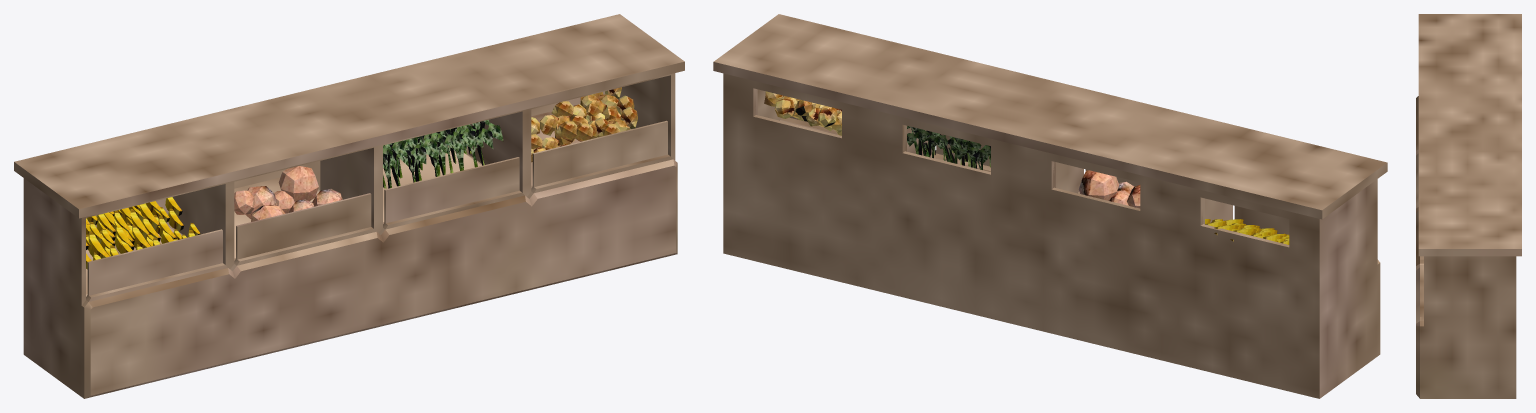
File: Mueble2Ver.fbx
3 renders of one model, left to right at view 1: azimuth 30°, elevation 25°; view 2: azimuth 150°, elevation 25°; view 3: azimuth 270°, elevation 25°, orthographic. The views are drawn at different scales.
Parts seen in each view (by area): view 1: Mesh (10), Cube.065, Cube.022, Cube.021, Cube.001, Cube.006; view 2: Mesh (10), Cube.019, Cube.022, Cube.001, Cube.065; view 3: Mesh (10).
Boxes of the visible parts, x1=… form: Mesh (10): x1=14, y1=14, x2=684, y2=398; Cube.065: x1=86, y1=197, x2=200, y2=269; Cube.022: x1=531, y1=87, x2=637, y2=162; Cube.021: x1=383, y1=121, x2=503, y2=188; Cube.001: x1=234, y1=166, x2=342, y2=221; Cube.006: x1=383, y1=125, x2=473, y2=188; Mesh (10): x1=713, y1=14, x2=1387, y2=398; Cube.019: x1=907, y1=126, x2=990, y2=169; Cube.022: x1=764, y1=91, x2=841, y2=135; Cube.001: x1=1078, y1=170, x2=1140, y2=208; Cube.065: x1=1205, y1=219, x2=1289, y2=244; Mesh (10): x1=1416, y1=14, x2=1521, y2=398.
Bounding box in the file's own units: 333 × 101 × 63.37.
2 materials, 2 textured.
